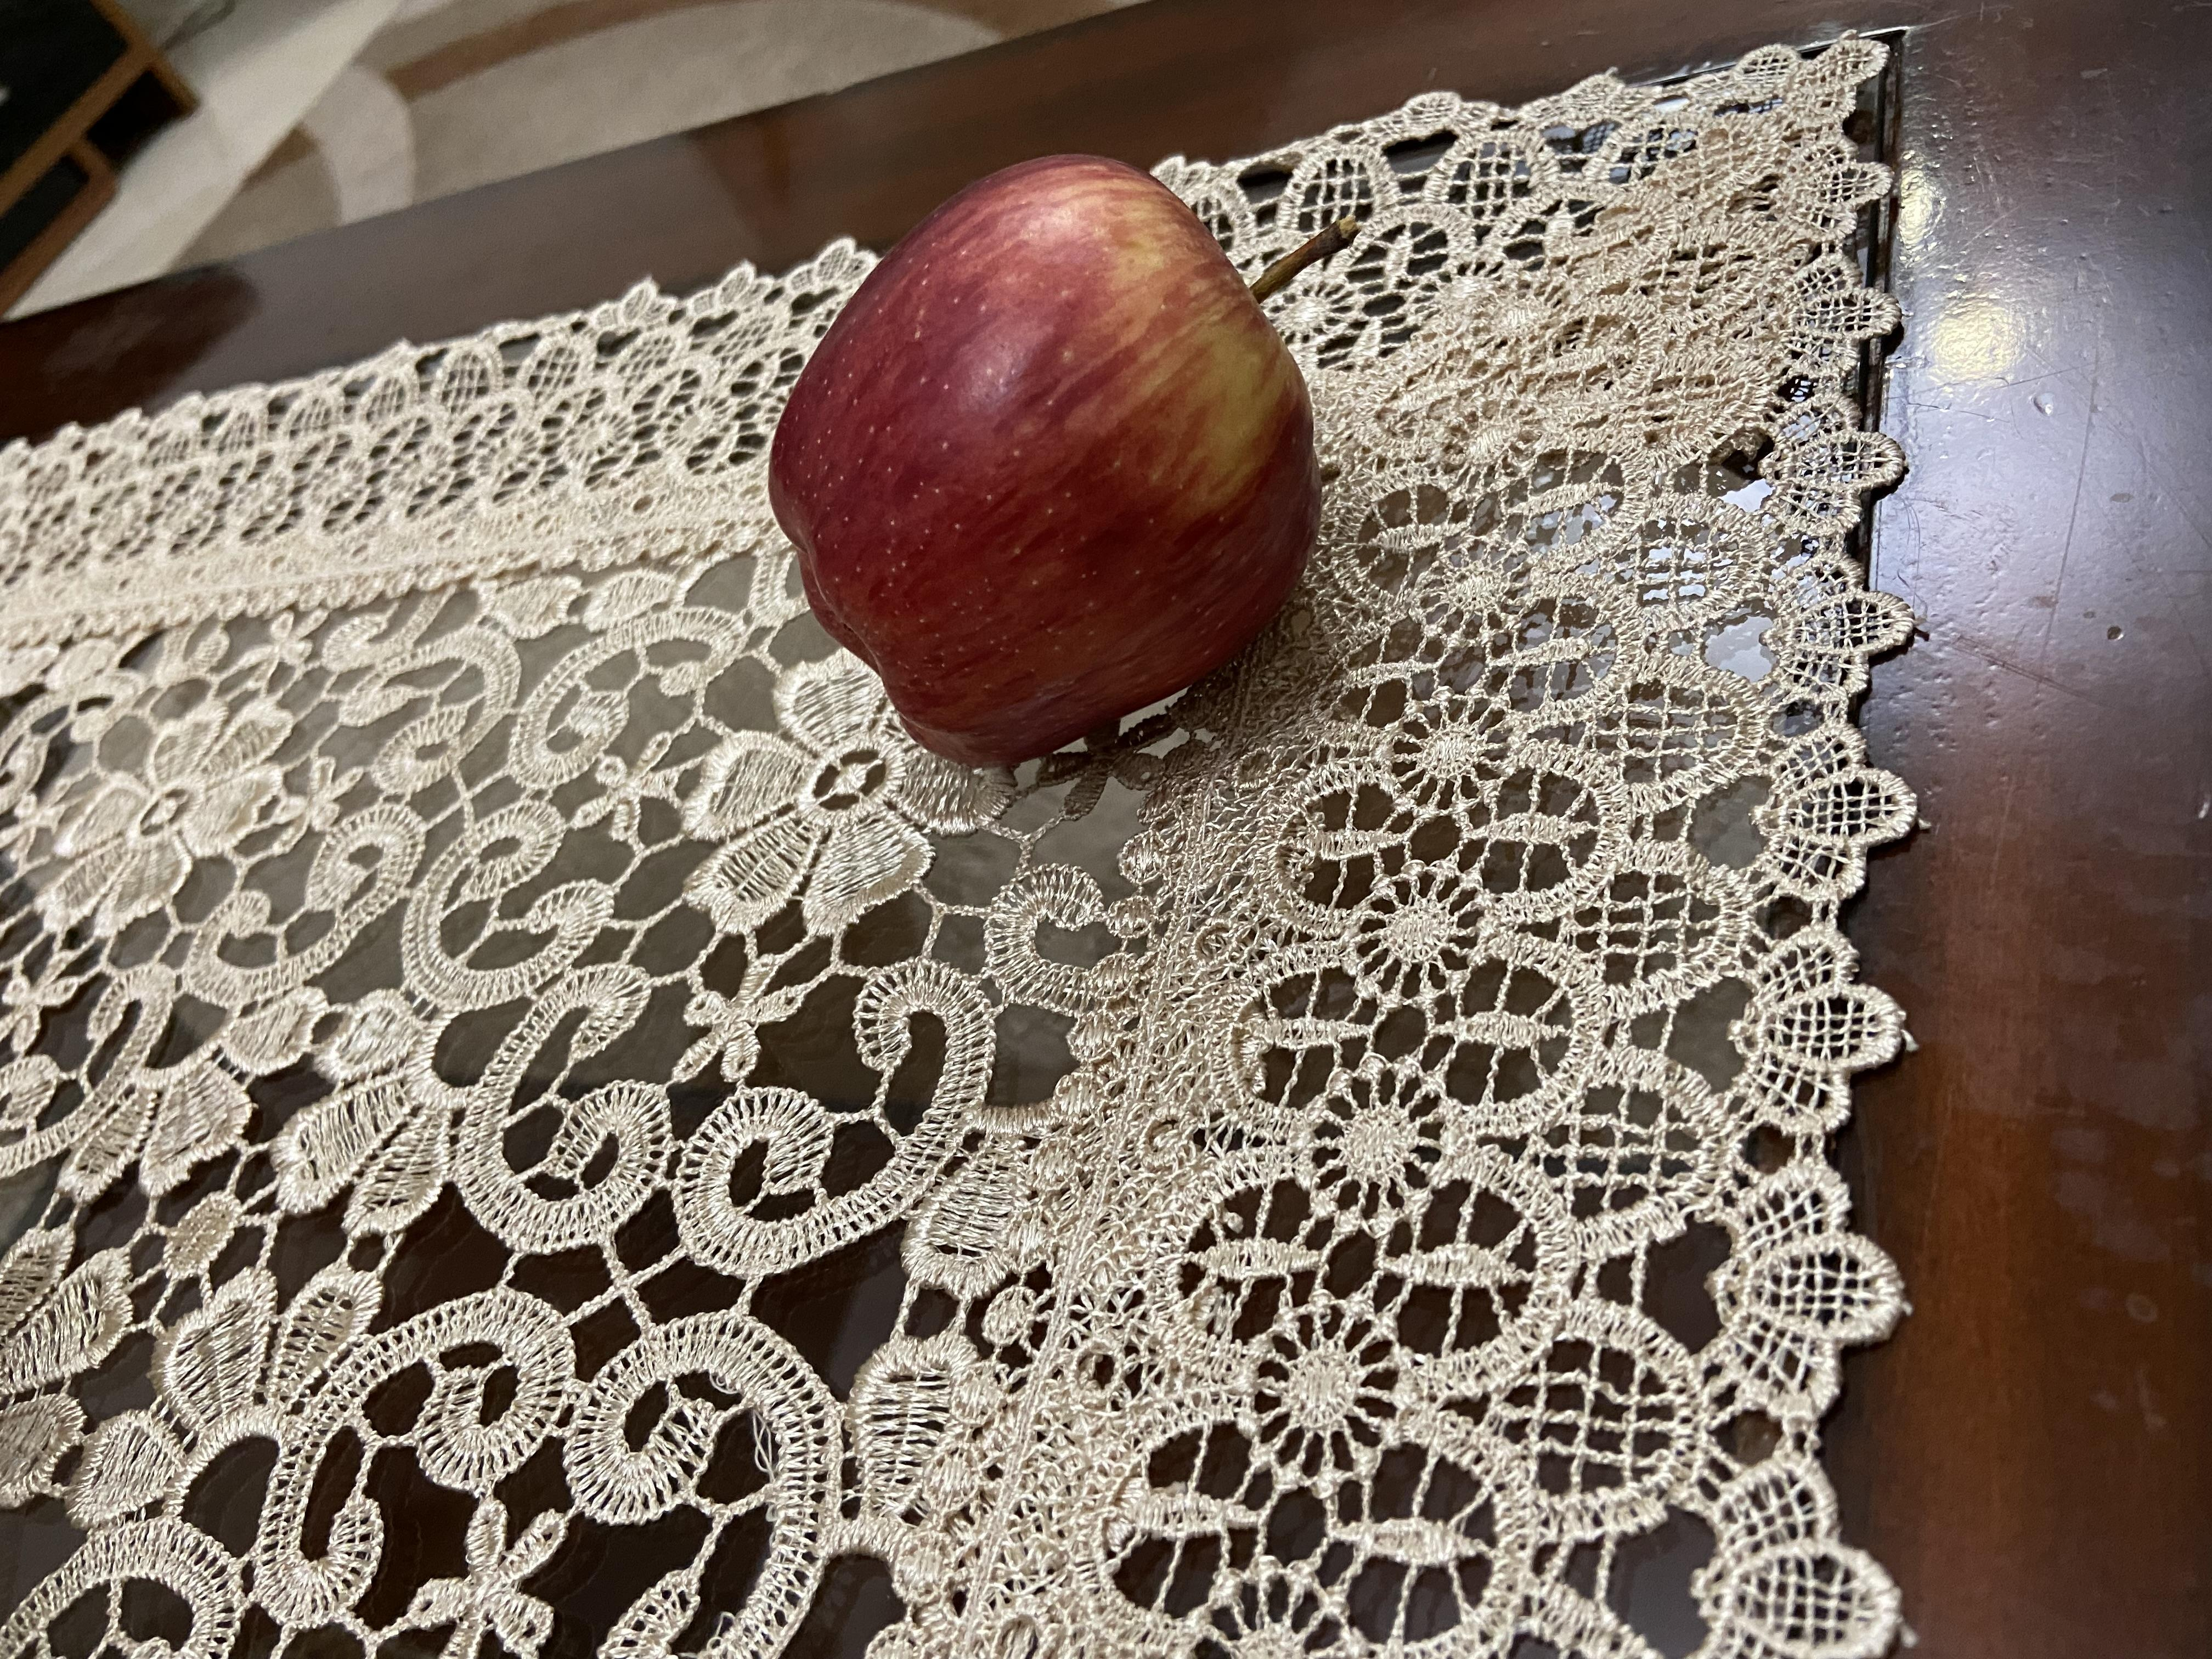Apple: (1188, 551, 2034, 1049)
